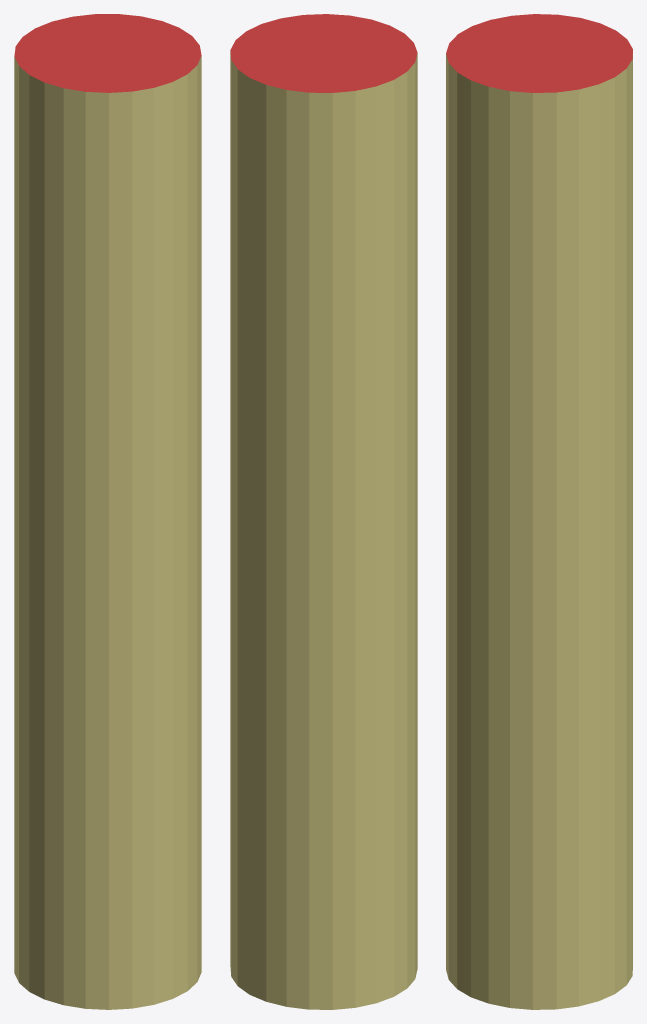
The picture shows the model from 3 angles, left to right: view 1: azimuth 30°, elevation 25°; view 2: azimuth 150°, elevation 25°; view 3: azimuth 270°, elevation 25°; orthographic projection.
Size of the model in its own units: 3.89 by 3.88 by 21.03.
